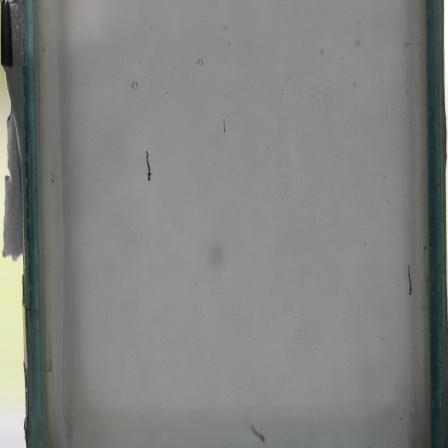Jentik-Nyamuk: (140, 147, 156, 183), (403, 261, 417, 299), (219, 117, 228, 138)
